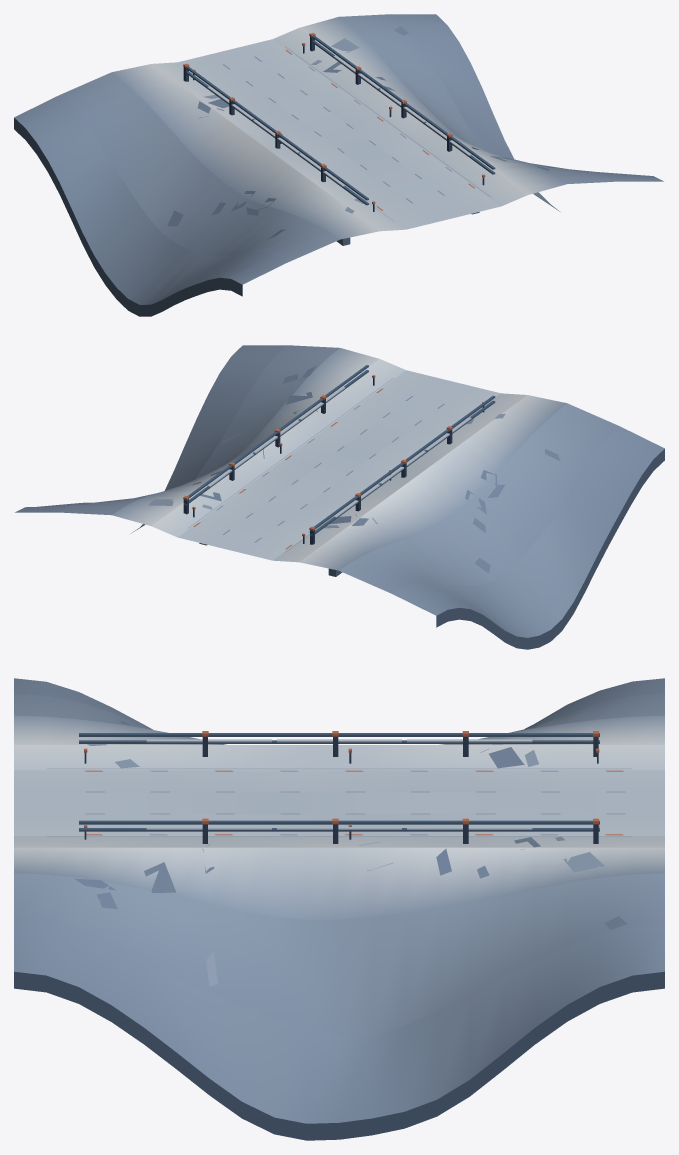
Rendered from 04-bridge.glb.
3 views of the same model, one above another, from view 1: azimuth 30°, elevation 25°; view 2: azimuth 150°, elevation 25°; view 3: azimuth 270°, elevation 25° (orthographic). The views are drawn at different scales.
Parts seen in each view (by area): view 1: bridge; view 2: bridge; view 3: bridge.
Part boxes in pixels (box(x1,y1,x2,y2)): bridge: box(14, 14, 663, 316); bridge: box(15, 345, 664, 649); bridge: box(14, 678, 664, 1140).
Bounding box in the file's own units: 32 × 11.07 × 30.
